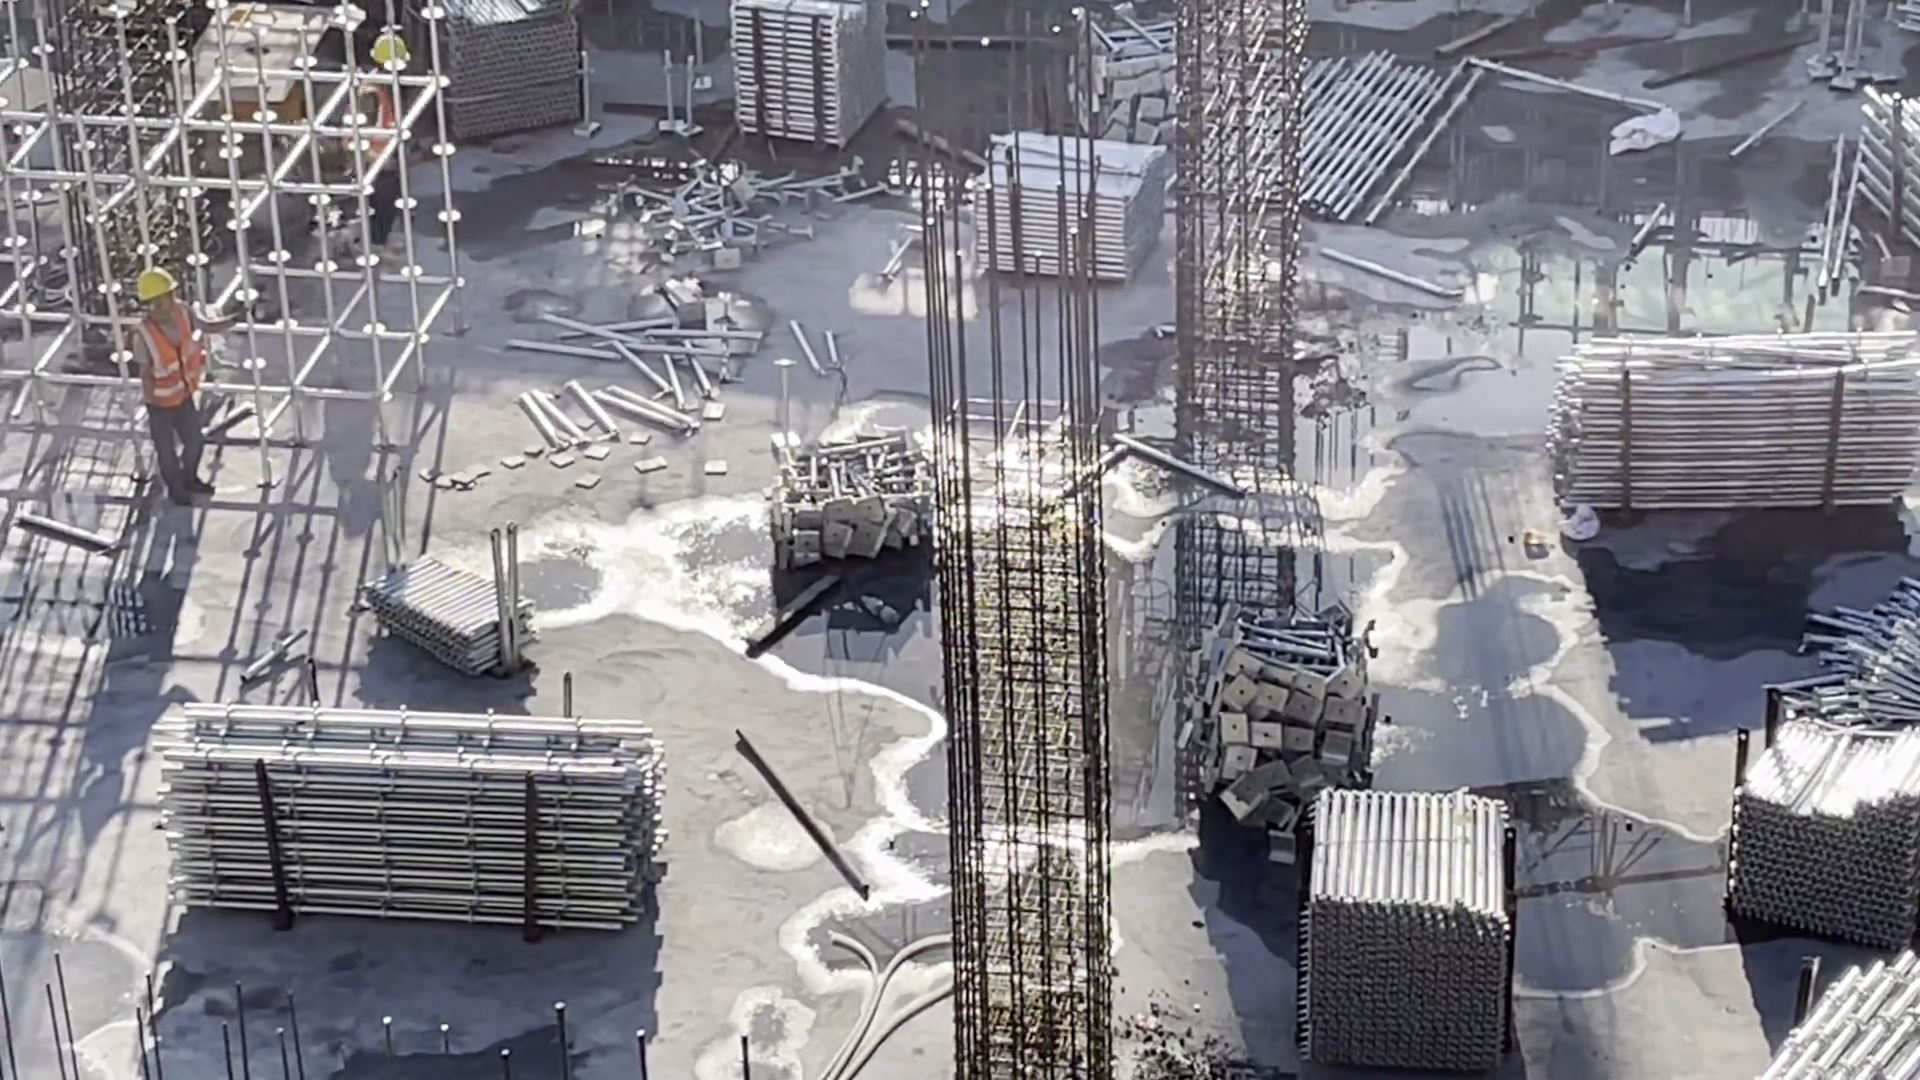cutter: (188, 4, 347, 148)
helmet: (370, 27, 422, 69), (134, 267, 189, 305)
person: (141, 245, 245, 500), (343, 31, 425, 263)
scaffold: (176, 693, 618, 928), (1556, 332, 1920, 528), (1300, 780, 1550, 1057), (1734, 707, 1920, 949), (1191, 605, 1376, 821), (975, 127, 1173, 303), (1266, 60, 1464, 216), (726, 2, 895, 155), (754, 432, 935, 559), (432, 1, 597, 135), (363, 540, 529, 671), (1753, 956, 1916, 1080), (1076, 24, 1192, 169), (1787, 580, 1920, 705), (1828, 78, 1920, 220)
vest: (123, 311, 210, 402), (361, 75, 406, 170)
